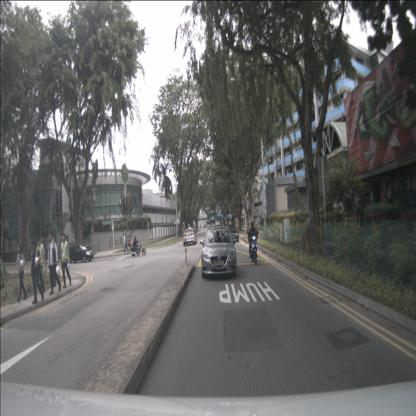human-pedestrian-adult: (354, 197, 364, 256), (124, 234, 129, 252), (123, 232, 126, 252)
vehicle-car: (201, 228, 237, 278), (66, 245, 93, 263), (183, 228, 197, 247), (226, 225, 239, 242)
vehicle-motorcycle: (247, 221, 259, 266), (128, 234, 146, 256)
